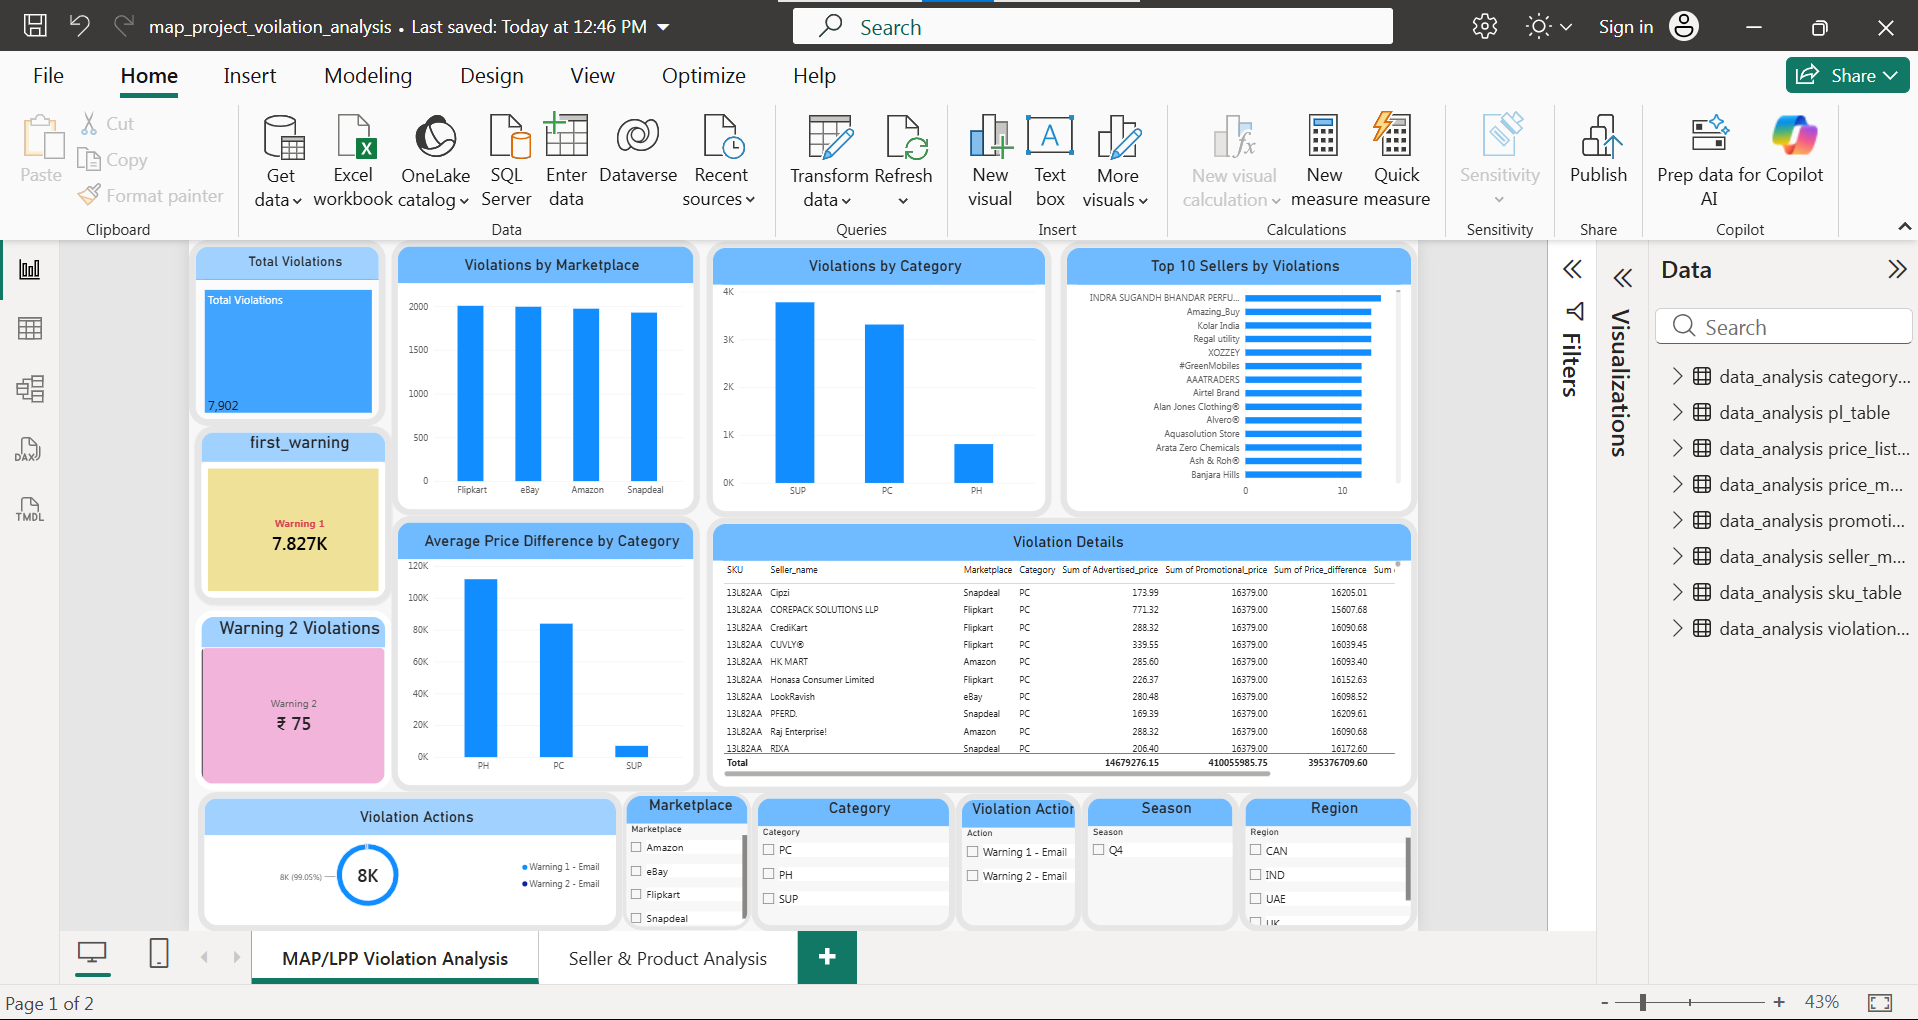

The dashboard page shown, as its layout file describes it:
{"tool":"powerbi","page":{"name":"MAP/LPP Violation Analysis","canvas":[1920,1080],"ordinal":0},"visuals":[{"type":"treemap","fields":{"Values":["data_analysis category_mapping_table.Total Violations"]},"box":[0,0,307.1,290.7],"z":0},{"type":"cardVisual","title":"first_warning","fields":{"Data":["data_analysis category_mapping_table.Warning 1"]},"box":[9.4,290.7,307.1,279],"z":1000},{"type":"cardVisual","title":"second_warning","fields":{"Data":["data_analysis category_mapping_table.Warning 2"]},"box":[9.4,579.1,307.1,281.3],"z":2000},{"type":"clusteredColumnChart","title":"Violations by Marketplace","fields":{"Category":["data_analysis violation_table.Marketplace"],"Y":["data_analysis category_mapping_table.Total Violations"]},"box":[317.5,0,481.9,430.9],"z":3000},{"type":"clusteredColumnChart","title":"Violations by Category","fields":{"Category":["data_analysis violation_table.Category"],"Y":["data_analysis category_mapping_table.Total Violations"]},"box":[808.8,2.3,539.2,431.4],"z":4000},{"type":"clusteredBarChart","title":"Top 10 Sellers by Violations","fields":{"Category":["data_analysis violation_table.Seller_name"],"Y":["data_analysis category_mapping_table.Total Violations"]},"box":[1362.1,2.3,558,431.4],"z":5000},{"type":"donutChart","title":"Violation Actions","fields":{"Category":["data_analysis violation_table.Action"],"Y":["data_analysis category_mapping_table.Total Violations"]},"box":[14.1,862.8,663.5,218],"z":6000},{"type":"tableEx","title":"Violation Details","fields":{"Values":["data_analysis violation_table.SKU","data_analysis violation_table.Seller_name","data_analysis violation_table.Marketplace","data_analysis violation_table.Category","Sum(data_analysis violation_table.Advertised_price)","Sum(data_analysis violation_table.Promotional_price)","Sum(data_analysis violation_table.Price_difference)","Sum(data_analysis violation_table.Violation_count)","data_analysis violation_table.Action"]},"box":[808.8,433.7,1111.2,430.9],"z":7000},{"type":"slicer","title":"Marketplace","fields":{"Values":["data_analysis violation_table.Marketplace"]},"box":[677.6,862.8,201.6,215.7],"z":8000},{"type":"slicer","title":"Category","fields":{"Values":["data_analysis violation_table.Category"]},"box":[879.2,862.8,318.8,218],"z":9000},{"type":"slicer","title":"Violation Action","fields":{"Values":["data_analysis violation_table.Action"]},"box":[1198,865.1,196.9,215.7],"z":10000},{"type":"slicer","title":"Season","fields":{"Values":["data_analysis violation_table.Season"]},"box":[1395,862.8,246.2,218],"z":11000},{"type":"clusteredColumnChart","title":"Average Price Difference by Category","fields":{"Category":["data_analysis violation_table.Category"],"Y":["Avg(data_analysis violation_table.Price_difference)"]},"box":[317.5,430.9,481.9,430.9],"z":12000},{"type":"slicer","title":"Region","fields":{"Values":["data_analysis violation_table.Region"]},"box":[1641.1,862.8,279,218],"z":13000}]}

Visuals, with their boxes on the page's 1920x1080 design canvas (x1, y1, x2, y2). These are canvas units, not pixel positions in the 1918x1020 screenshot, which may show the page scaled, cropped or inside an application window:
treemap - data_analysis category_mapping_table.Total Violations: x1=0 y1=0 x2=307 y2=291
"first_warning" cardVisual: x1=9 y1=291 x2=316 y2=570
"second_warning" cardVisual: x1=9 y1=579 x2=316 y2=860
"Violations by Marketplace" clusteredColumnChart: x1=318 y1=0 x2=799 y2=431
"Violations by Category" clusteredColumnChart: x1=809 y1=2 x2=1348 y2=434
"Top 10 Sellers by Violations" clusteredBarChart: x1=1362 y1=2 x2=1920 y2=434
"Violation Actions" donutChart: x1=14 y1=863 x2=678 y2=1081
"Violation Details" tableEx: x1=809 y1=434 x2=1920 y2=865
"Marketplace" slicer: x1=678 y1=863 x2=879 y2=1078
"Category" slicer: x1=879 y1=863 x2=1198 y2=1081
"Violation Action" slicer: x1=1198 y1=865 x2=1395 y2=1081
"Season" slicer: x1=1395 y1=863 x2=1641 y2=1081
"Average Price Difference by Category" clusteredColumnChart: x1=318 y1=431 x2=799 y2=862
"Region" slicer: x1=1641 y1=863 x2=1920 y2=1081
